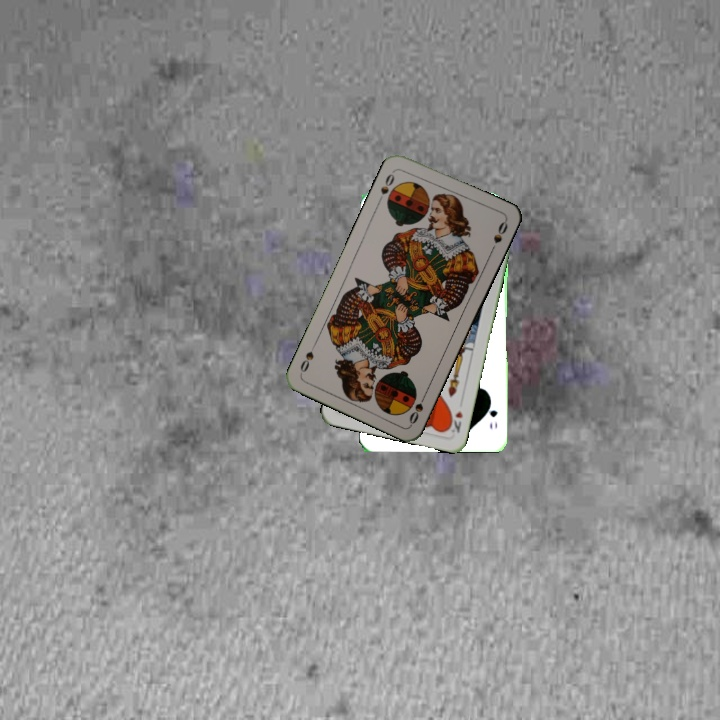GO: (483, 395, 500, 432)
HK: (447, 407, 465, 435)
SO: (405, 388, 429, 427), (376, 166, 398, 197)
